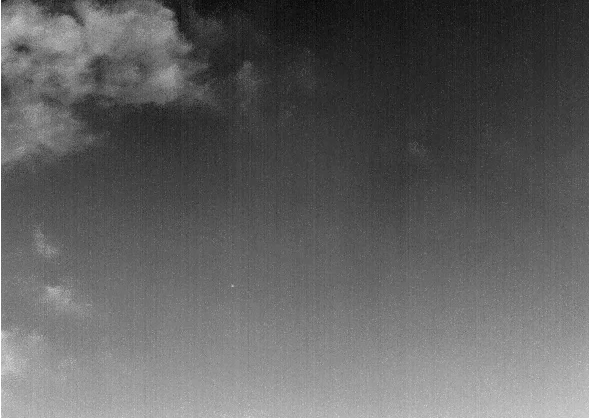dim target: (230, 284, 235, 288)
